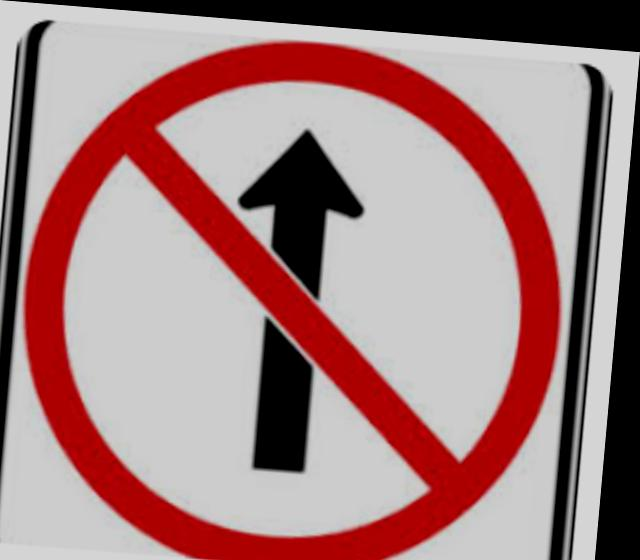not_go_straight: (27, 25, 580, 560)
